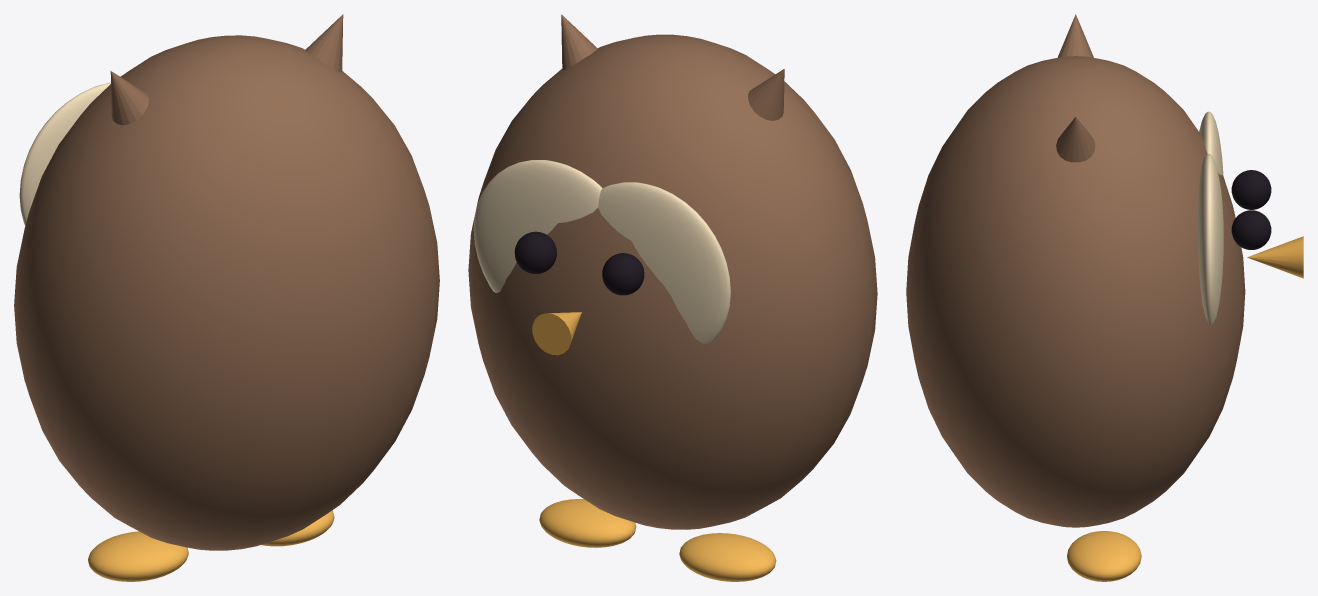
File: joshy.glb
3 views of the same model, side by side, from view 1: azimuth 30°, elevation 25°; view 2: azimuth 150°, elevation 25°; view 3: azimuth 270°, elevation 25° (orthographic). The views are drawn at different scales.
Bounding box in the file's own units: 0.84 × 1.1 × 0.837.
